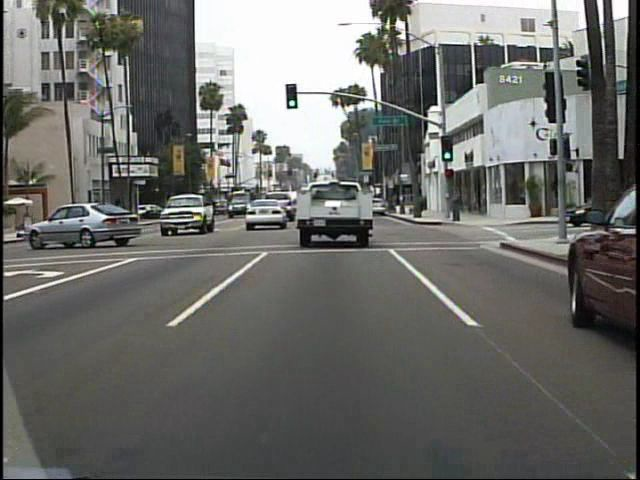person: (447, 183, 465, 225)
